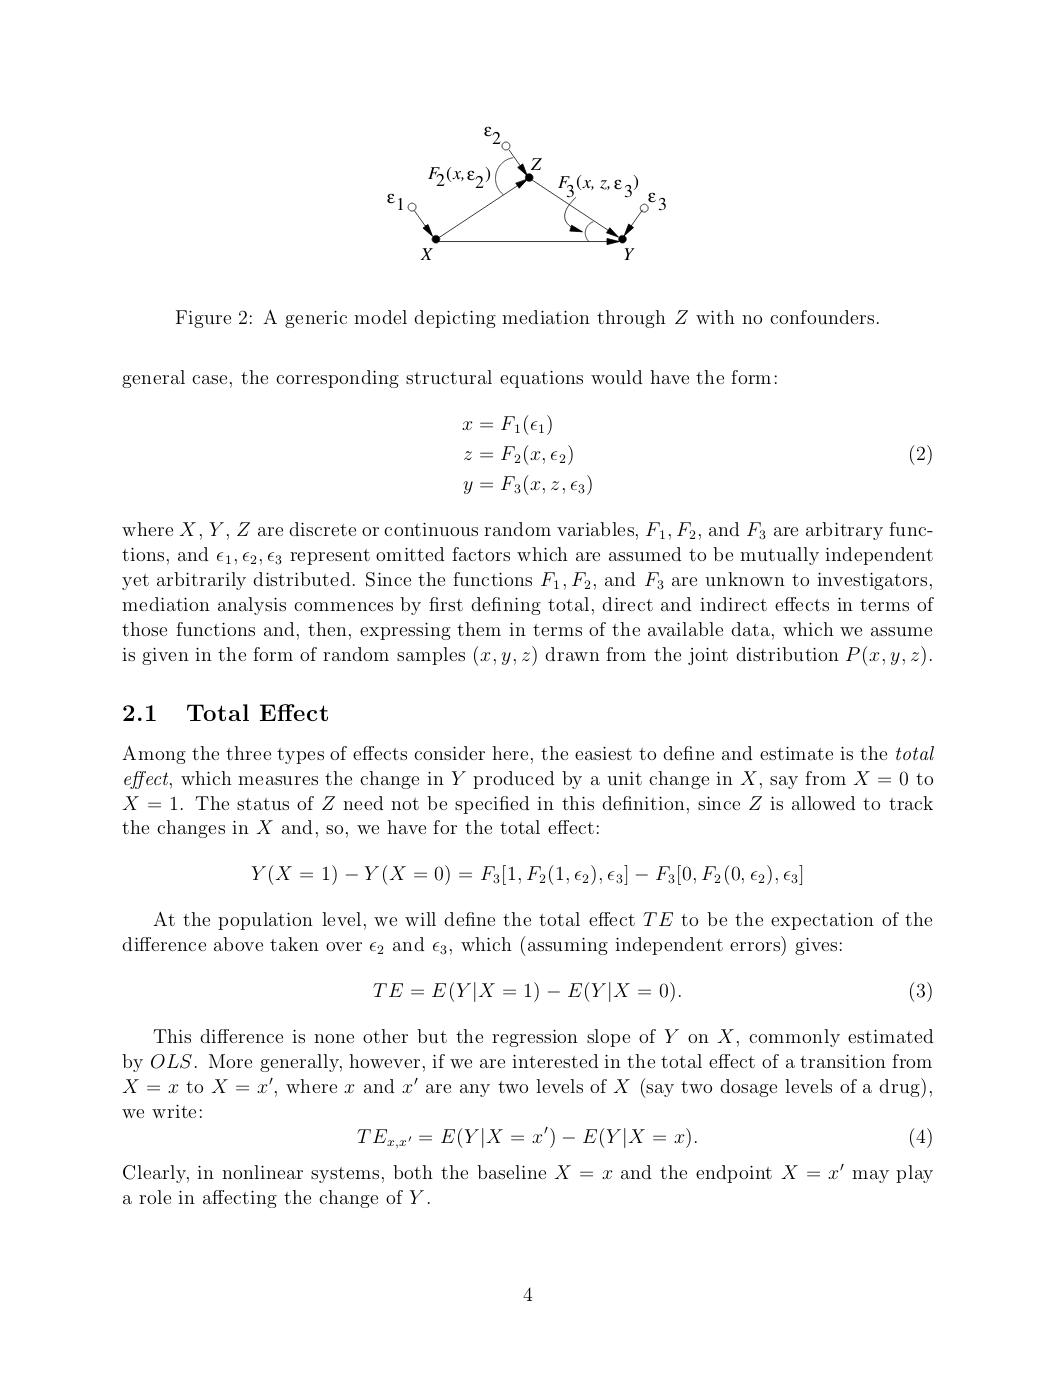figure: (387, 125, 665, 260)
formula: (357, 1124, 931, 1149), (373, 981, 931, 1002), (251, 864, 802, 885), (464, 444, 931, 465), (463, 474, 591, 495), (463, 413, 551, 435)
